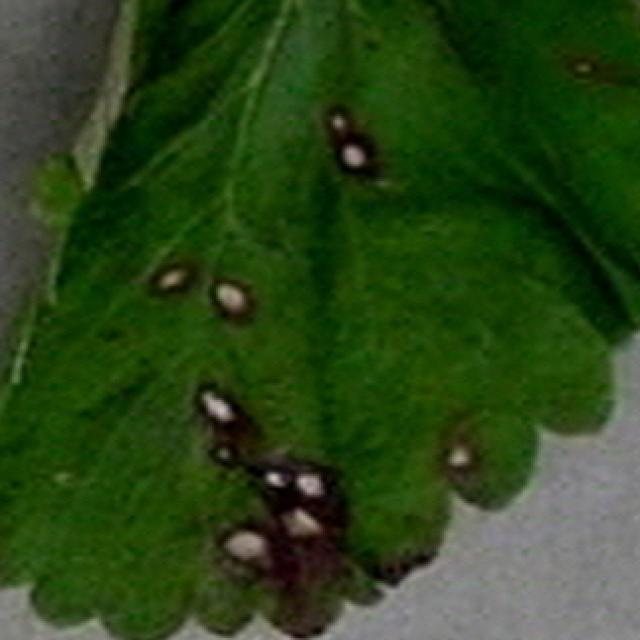Leaf Spot: (0, 0, 640, 640)
